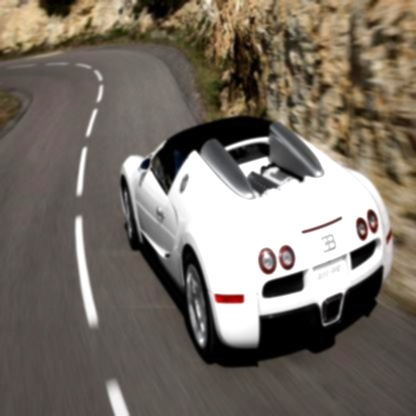Vehicle: (120, 119, 393, 365)
